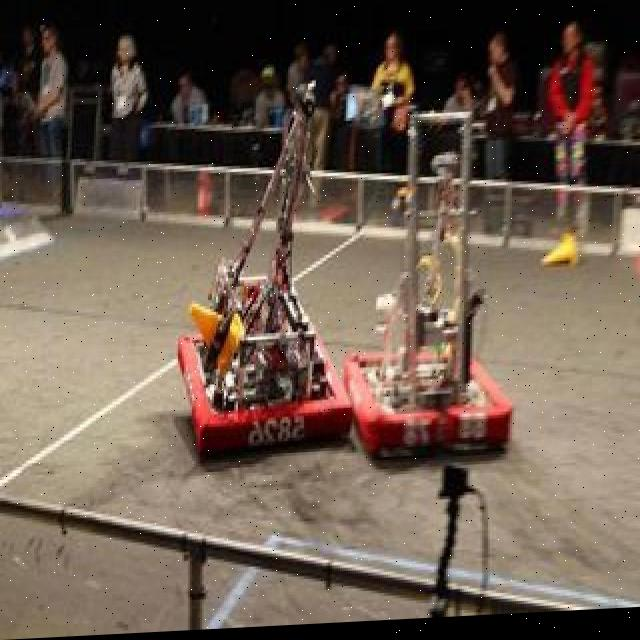robot: (185, 65, 349, 463), (357, 106, 520, 476)
